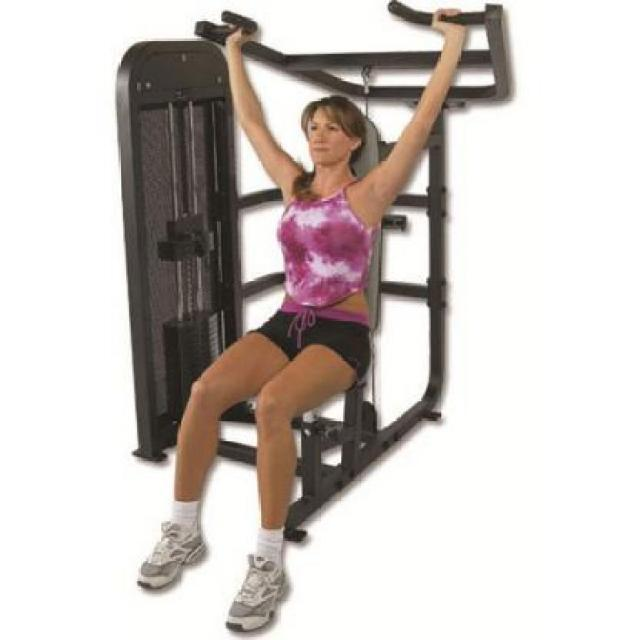shoulder press machine: (103, 0, 522, 640)
